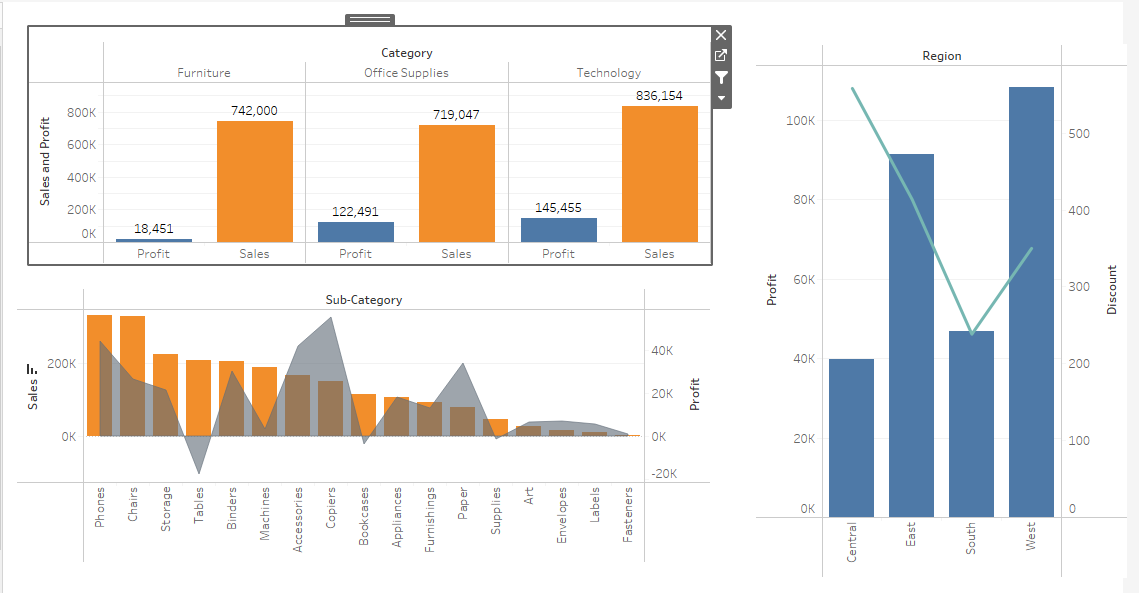

The dashboard page shown, as its layout file describes it:
{"tool":"tableau","page":{"name":"Dashboard 2","canvas":[1000,1000],"units":"permille","ordinal":1},"visuals":[{"type":"worksheet","title":"Sheet 2","mark":"Bar","cols":["Category"],"box":[23.1,42.2,609.2,399.7]},{"type":"worksheet","title":"Sheet 5","mark":"Automatic","rows":["Profit","Discount"],"cols":["Region"],"box":[672.3,47.2,332.3,924.1]},{"type":"worksheet","title":"Sheet 1","mark":"Line","rows":["Sales","Profit"],"cols":["Sub-Category"],"box":[12.3,458.7,620,487.4]}]}

Visuals, with their boxes on the dashboard's canvas, which has no fixed pixel size, in thousandths of its width and height (x1, y1, x2, y2). These are canvas units, not pixel positions in the 1139x593 screenshot, which may show the page scaled, cropped or inside an application window:
"Sheet 2" worksheet (Bar marks): (23,42,632,442)
"Sheet 5" worksheet: (672,47,1005,971)
"Sheet 1" worksheet (Line marks): (12,459,632,946)
